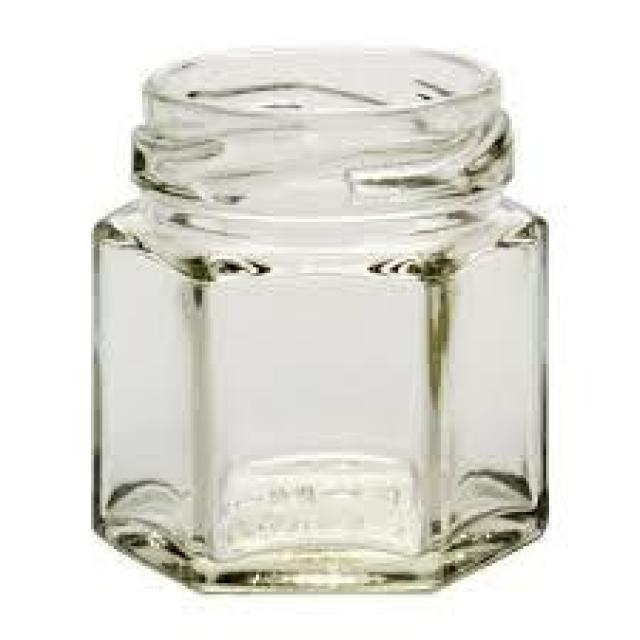Glass: (88, 42, 552, 598)
